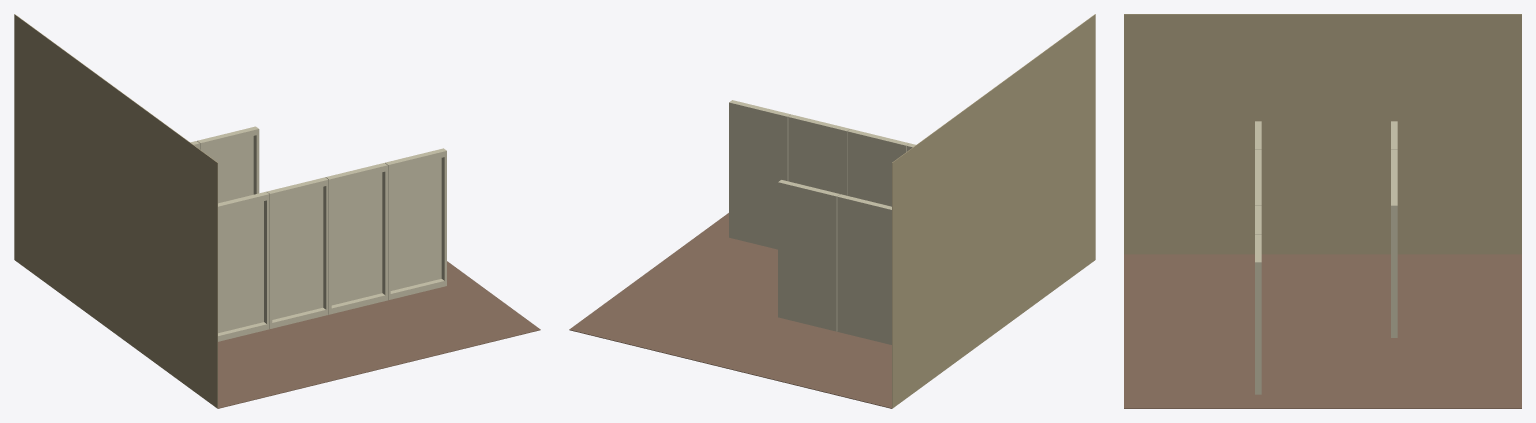
The model's file is grinding_old_workcell.dae.
3 renders of one model, left to right at view 1: azimuth 30°, elevation 25°; view 2: azimuth 150°, elevation 25°; view 3: azimuth 270°, elevation 25°, orthographic. The views are drawn at different scales.
Parts seen in each view (by area): view 1: wall, ground, panel_001, panel_007, panel_004, panel_006, panel_005; view 2: wall, ground, panel_005, panel_000, panel_004, panel_001, panel_007; view 3: wall, ground, panel_005, panel_004.
Part boxes in pixels (bbox=[...]): wall: bbox=[14, 14, 217, 408]; ground: bbox=[218, 261, 540, 408]; panel_001: bbox=[325, 163, 387, 314]; panel_007: bbox=[266, 177, 328, 328]; panel_004: bbox=[385, 148, 446, 300]; panel_006: bbox=[218, 191, 269, 341]; panel_005: bbox=[197, 126, 259, 203]; wall: bbox=[892, 14, 1095, 408]; ground: bbox=[569, 213, 891, 408]; panel_005: bbox=[778, 180, 839, 331]; panel_000: bbox=[837, 194, 891, 344]; panel_004: bbox=[729, 100, 790, 249]; panel_001: bbox=[788, 114, 849, 195]; panel_007: bbox=[847, 129, 909, 206]; wall: bbox=[1124, 14, 1521, 254]; ground: bbox=[1124, 254, 1521, 408]; panel_005: bbox=[1391, 177, 1397, 337]; panel_004: bbox=[1255, 234, 1261, 394].
Bounding box in the file's own units: 5.51 × 6 × 4.01.
